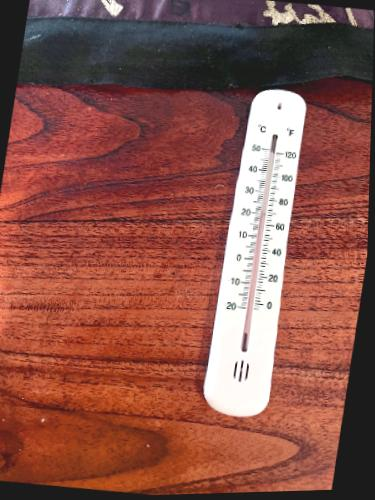thermo: (199, 86, 305, 413)
